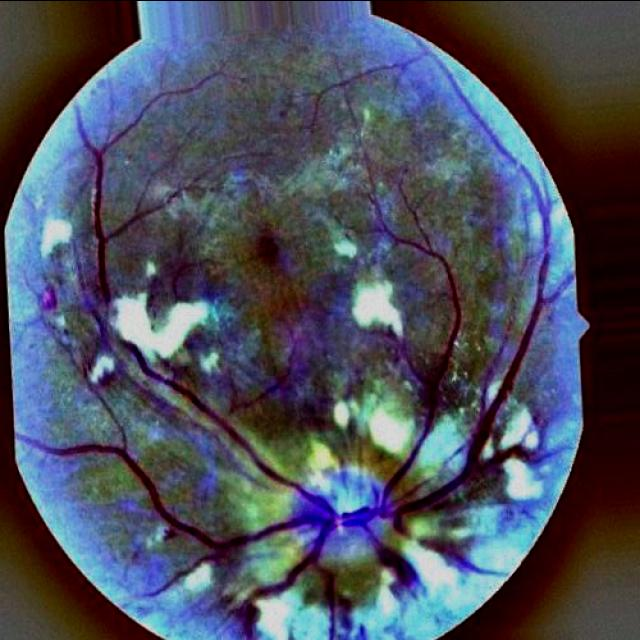Macula: (242, 220, 287, 270)
Nerves: (20, 189, 561, 640), (420, 539, 499, 573), (319, 568, 338, 640)
Optic Disk: (290, 463, 394, 558)
